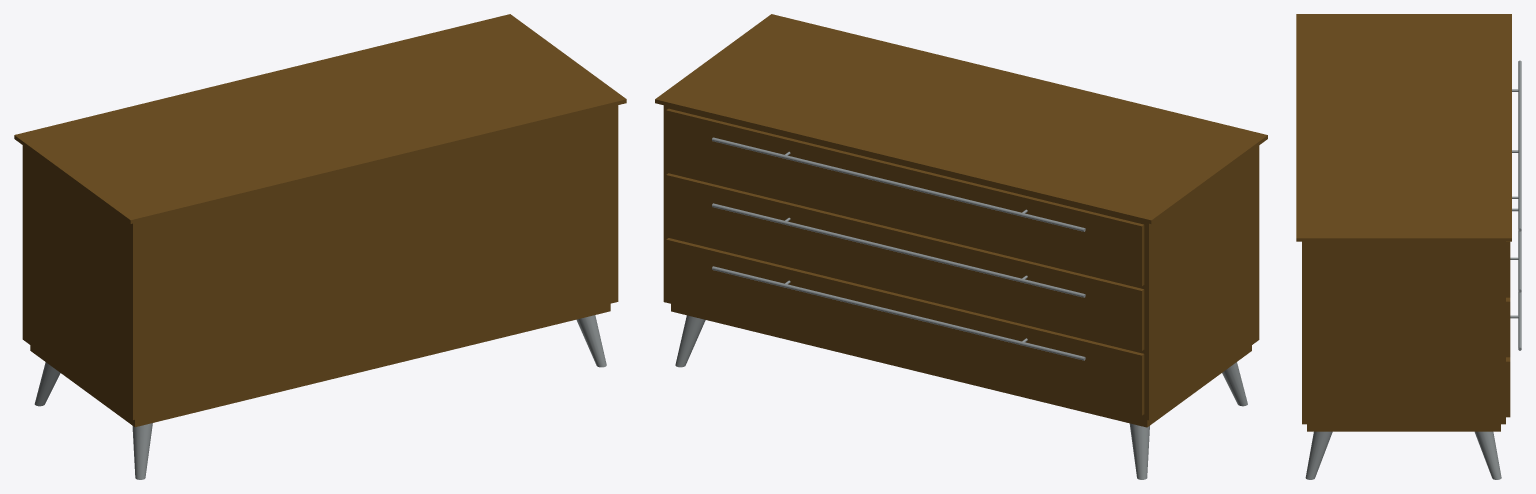
Rendered from drawers.fbx.
The picture shows the model from 3 angles, left to right: view 1: azimuth 30°, elevation 25°; view 2: azimuth 150°, elevation 25°; view 3: azimuth 270°, elevation 25°; orthographic projection. The views are drawn at different scales.
Parts seen in each view (by area): view 1: drawers; view 2: drawers; view 3: drawers.
Part boxes in pixels (bbox=[...]): drawers: bbox=[14, 14, 626, 479]; drawers: bbox=[655, 14, 1267, 479]; drawers: bbox=[1296, 14, 1521, 479].
Size of the model in its own units: 177 by 75.25 by 91.13.
